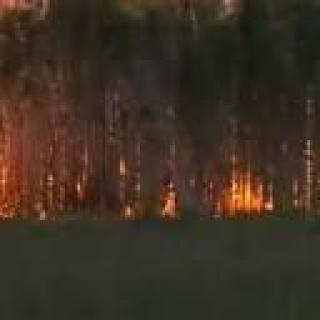fire: (114, 162, 182, 222), (221, 163, 284, 214), (0, 77, 8, 223)
